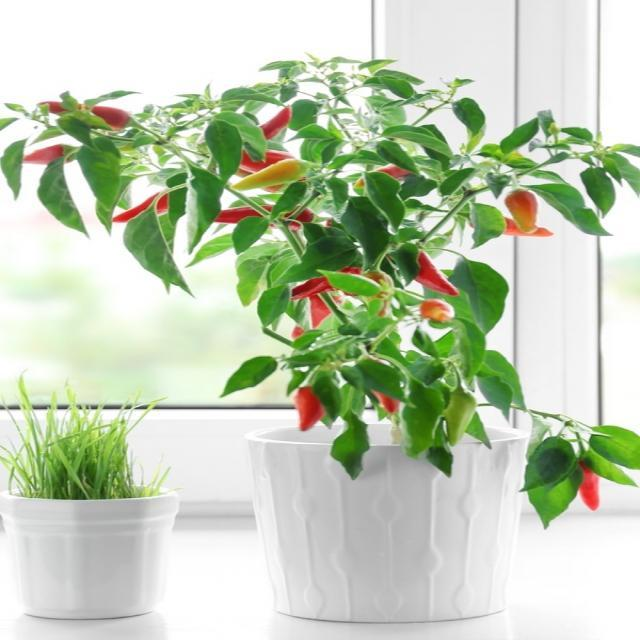chilli: (1, 57, 640, 524)
plant: (0, 377, 166, 501)
